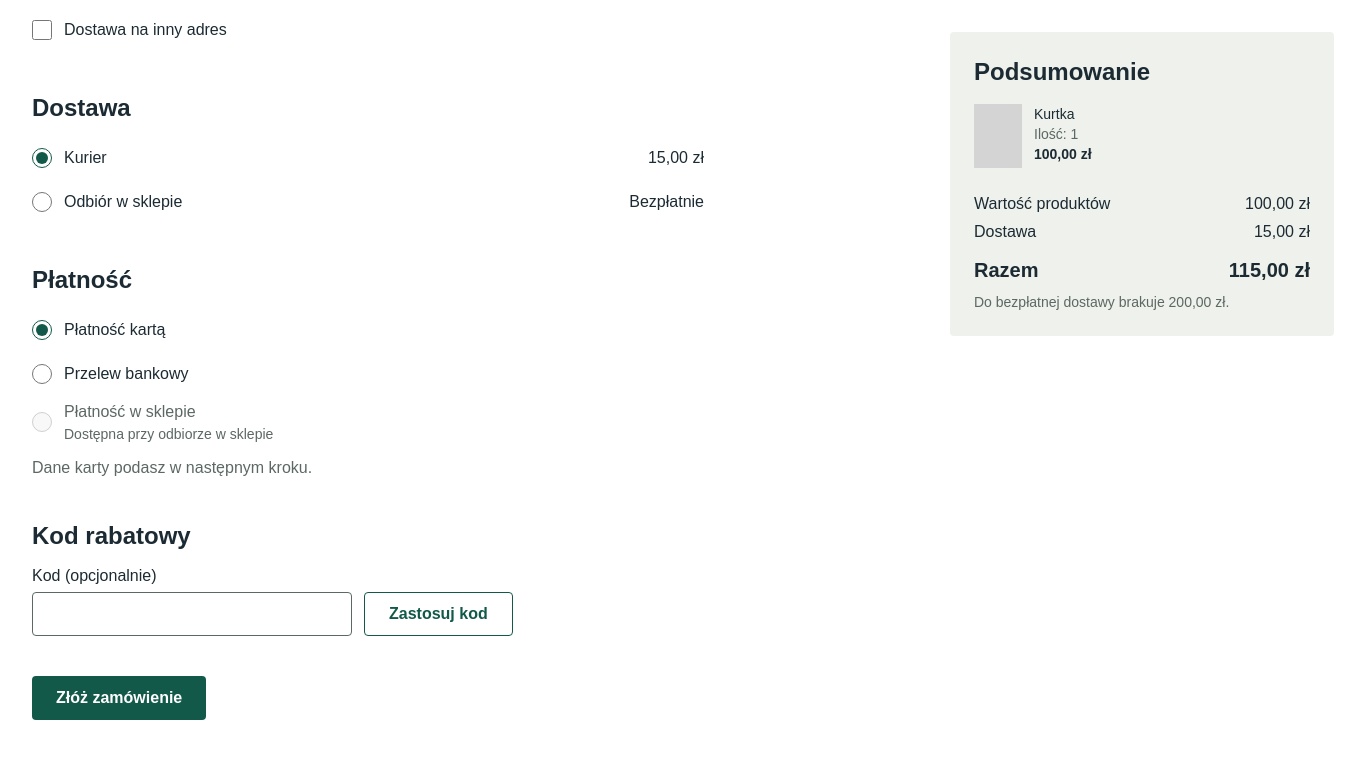
the quote behind the order › blocks the order while a newer quote is on its way
(page scrolled)
Click the button "Złóż zamówienie": click(119, 698) [32,676,206,720]
(page scrolled)
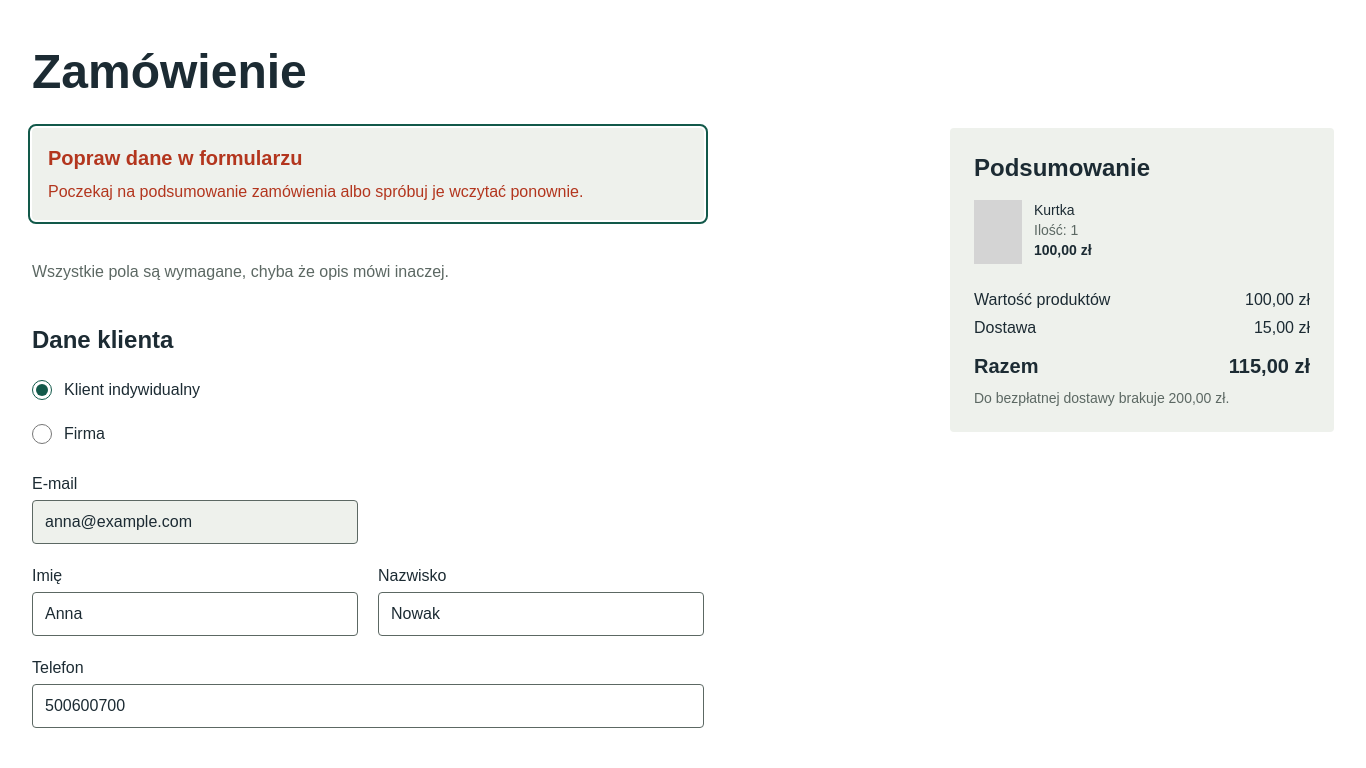
Now the text "Poczekaj na podsumowanie zamówienia albo spróbuj je wczytać ponownie." is shown, box [48,183,583,200]
